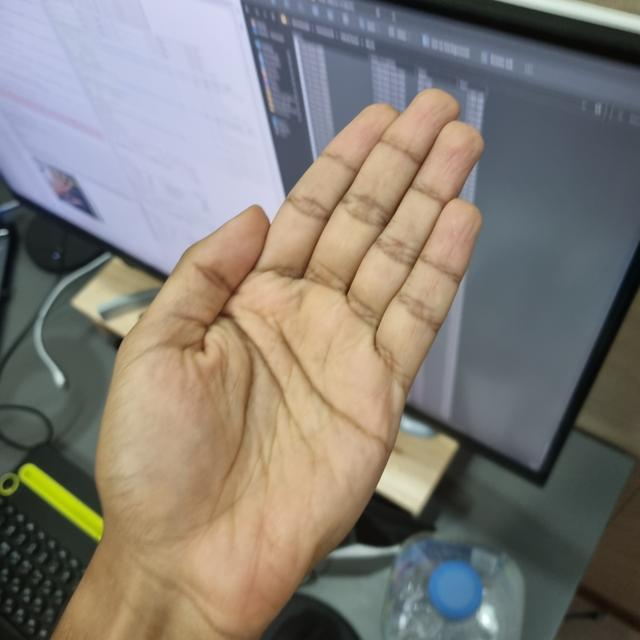Paper: (96, 94, 484, 632)
